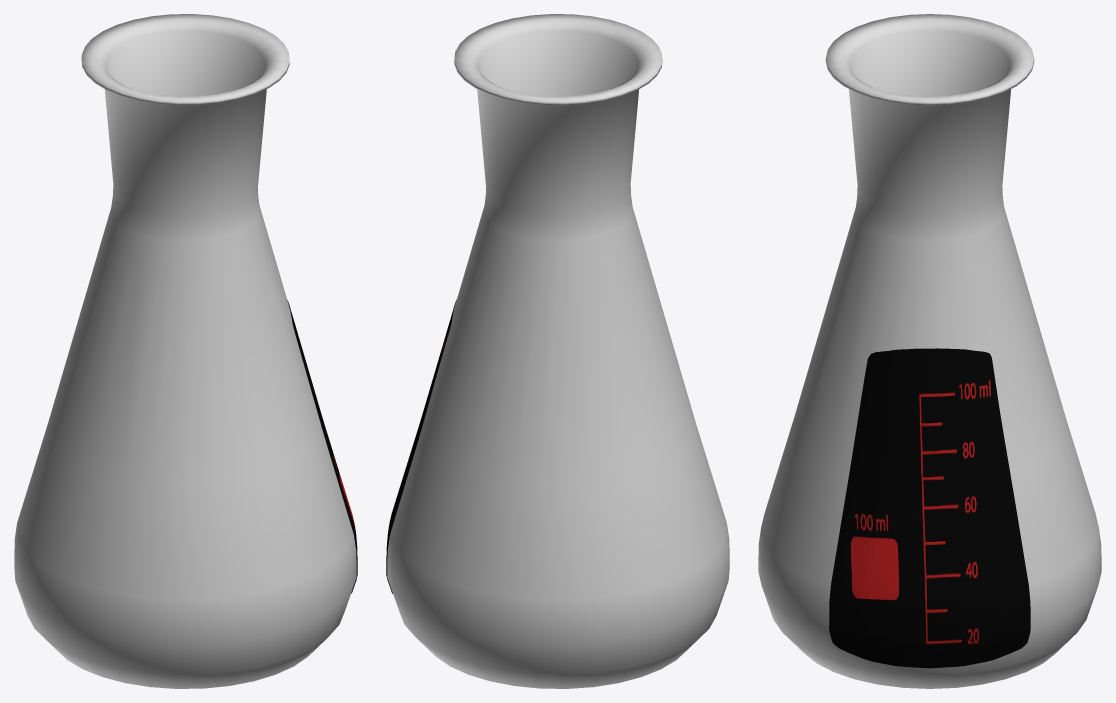
Rendered from alat_erlenmeyer_100ml_annisa_01.fbx.
3 views of the same model, side by side, from view 1: azimuth 30°, elevation 25°; view 2: azimuth 150°, elevation 25°; view 3: azimuth 270°, elevation 25° (orthographic).
Visible parts, largest first — view 1: erlenmeyer_100ml; view 2: erlenmeyer_100ml; view 3: erlenmeyer_100ml.
Part boxes in pixels (x1,y1,x2,y2): erlenmeyer_100ml: [14, 14, 357, 688]; erlenmeyer_100ml: [386, 14, 729, 688]; erlenmeyer_100ml: [758, 14, 1101, 688].
Size of the model in its own units: 7.94 by 14.83 by 7.92.
2 materials, 1 textured.
